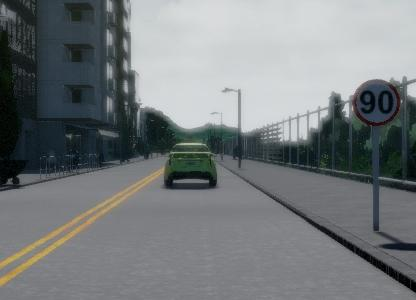Speed_90: (351, 80, 402, 127)
